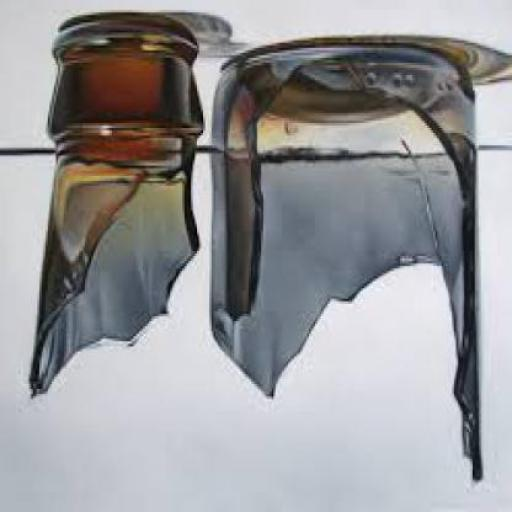glass: (207, 40, 475, 489), (24, 15, 200, 402)
